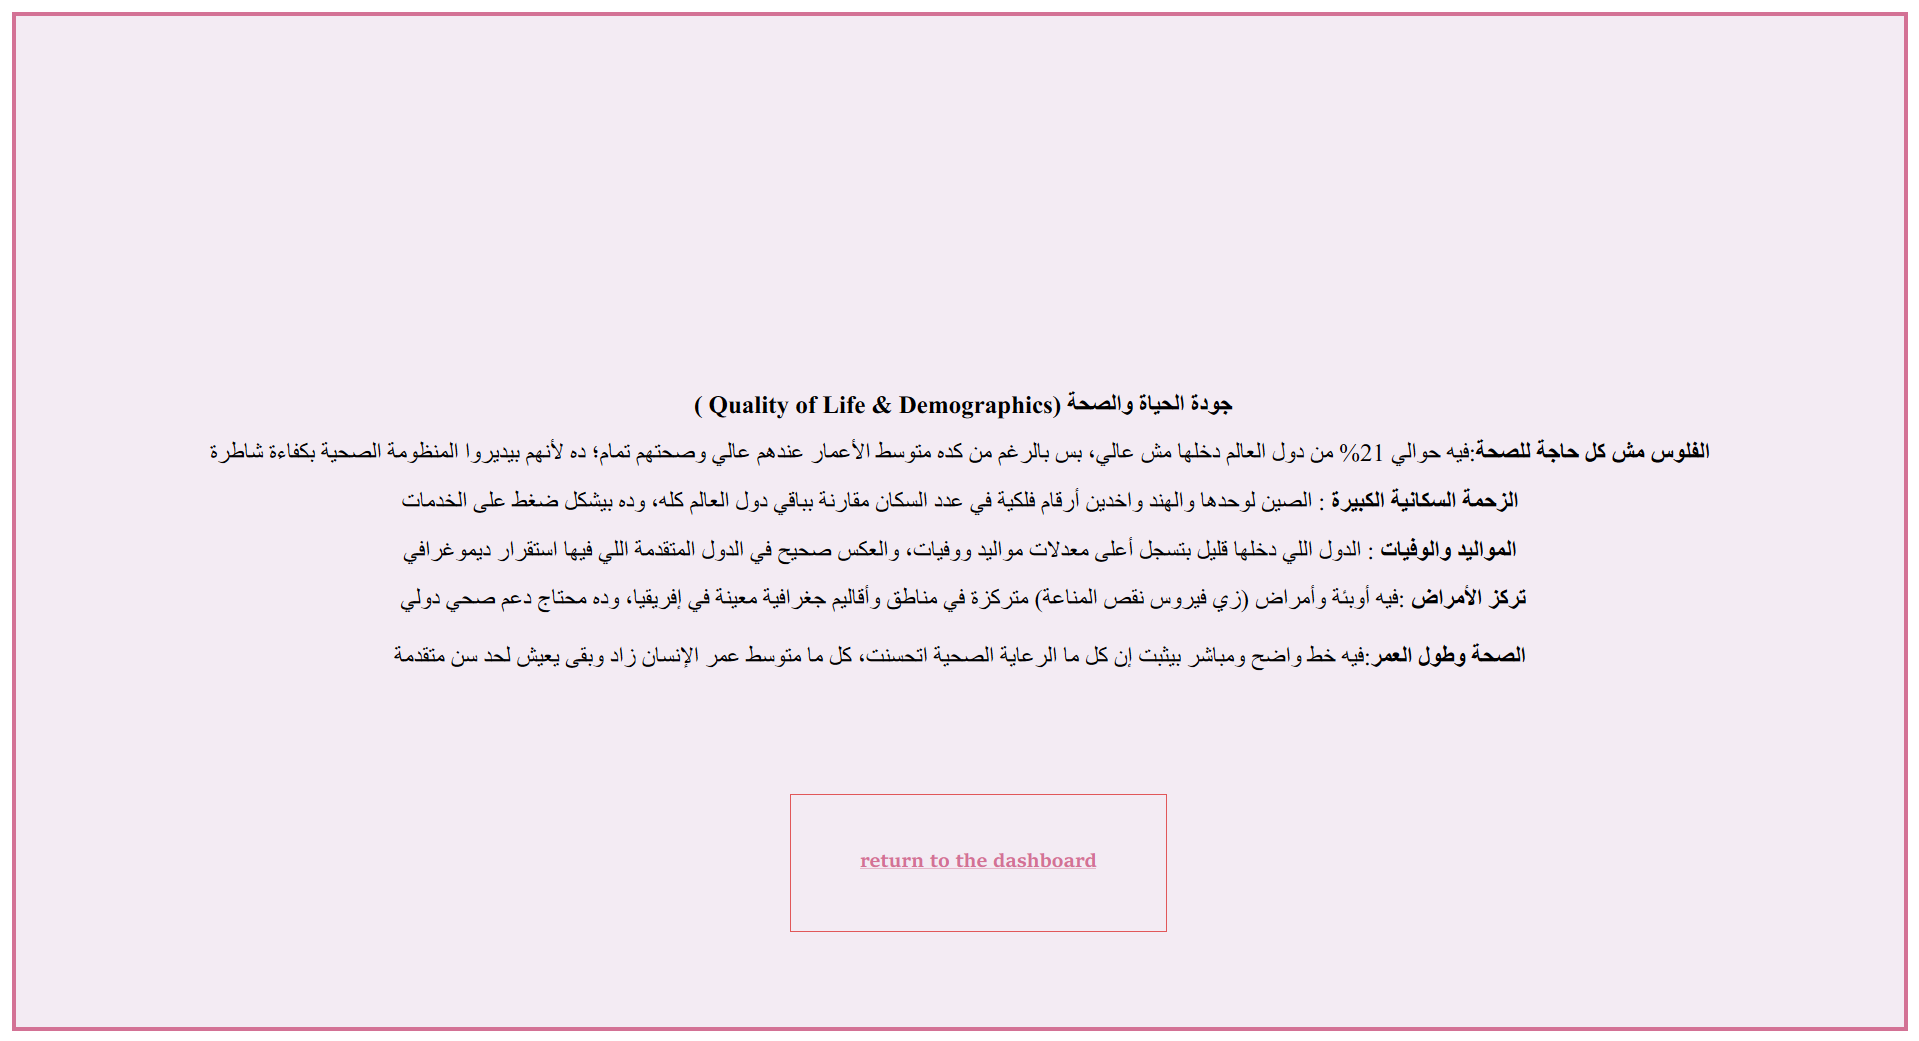

The dashboard page shown, as its layout file describes it:
{"tool":"tableau","page":{"name":"insights 1","canvas":[1000,1000],"units":"permille","ordinal":3},"visuals":[{"type":"text","box":[4.8,9.4,990.3,981.2]},{"type":"dashboard-object","box":[401.3,801.4,190.1,111.6]}]}

Visuals, with their boxes on the dashboard's canvas, which has no fixed pixel size, in thousandths of its width and height (x1, y1, x2, y2). These are canvas units, not pixel positions in the 1919x1041 screenshot, which may show the page scaled, cropped or inside an application window:
text: 5:9:995:991
dashboard-object: 401:801:591:913
